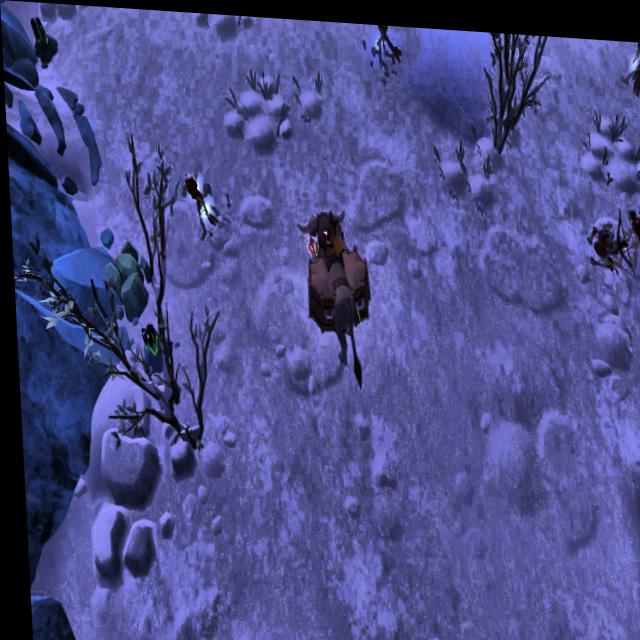enemy_factionUndead: (179, 167, 215, 237), (610, 190, 640, 261), (376, 20, 403, 66), (625, 33, 640, 91)
ore_t3: (136, 317, 159, 356), (27, 11, 48, 49)
rock_t3: (100, 236, 153, 321)
